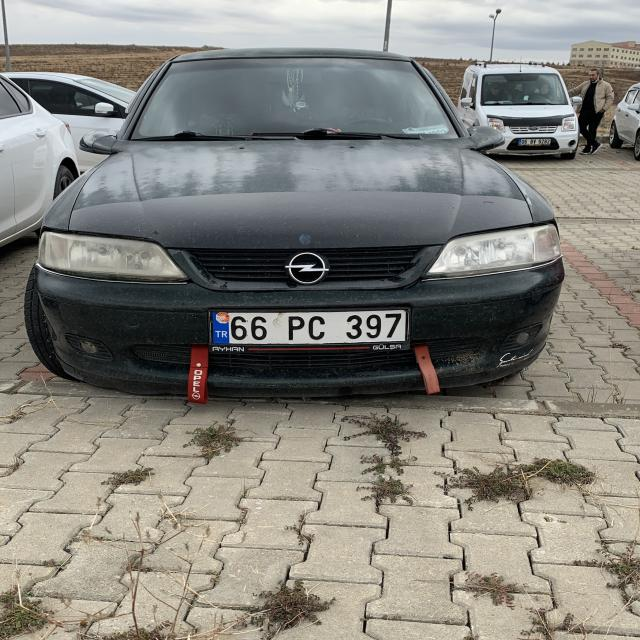license_plate: (209, 311, 408, 344)
